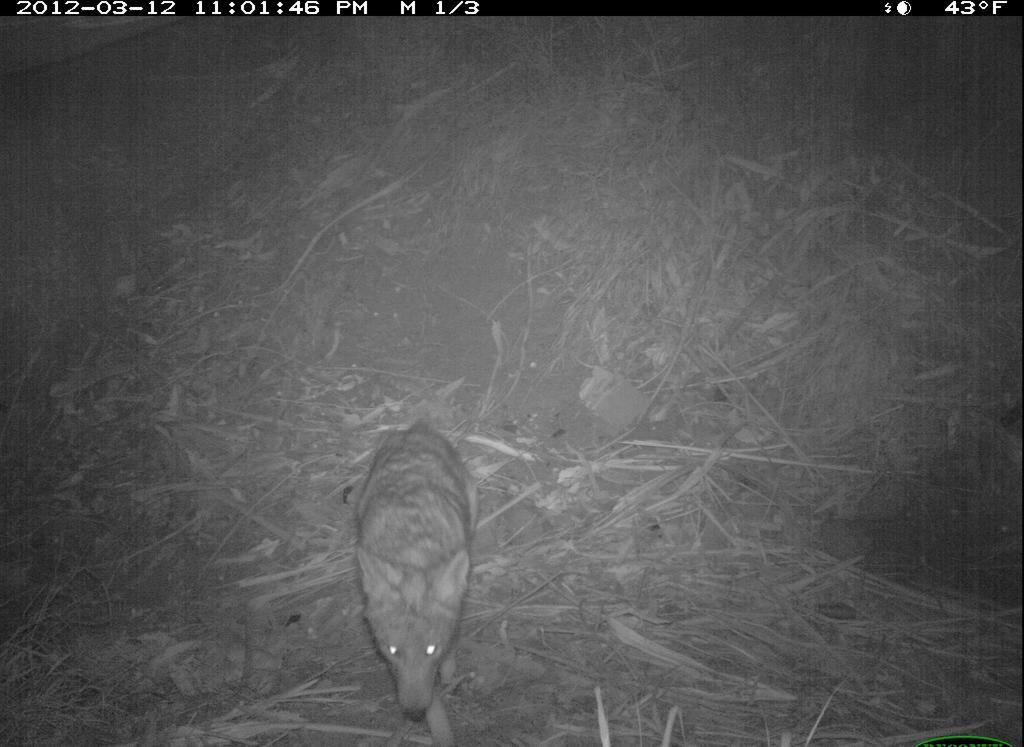coyote: (338, 411, 495, 747)
